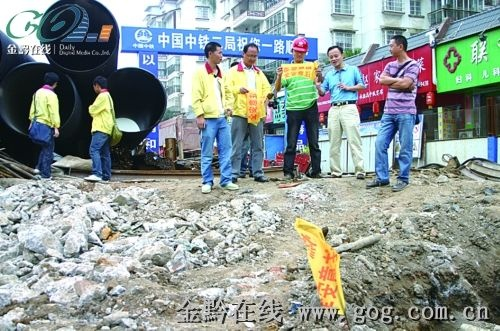none: (386, 32, 410, 60), (203, 39, 223, 67), (240, 41, 260, 68), (325, 44, 344, 70), (40, 68, 60, 91), (90, 72, 108, 94)
red: (289, 33, 310, 65)
